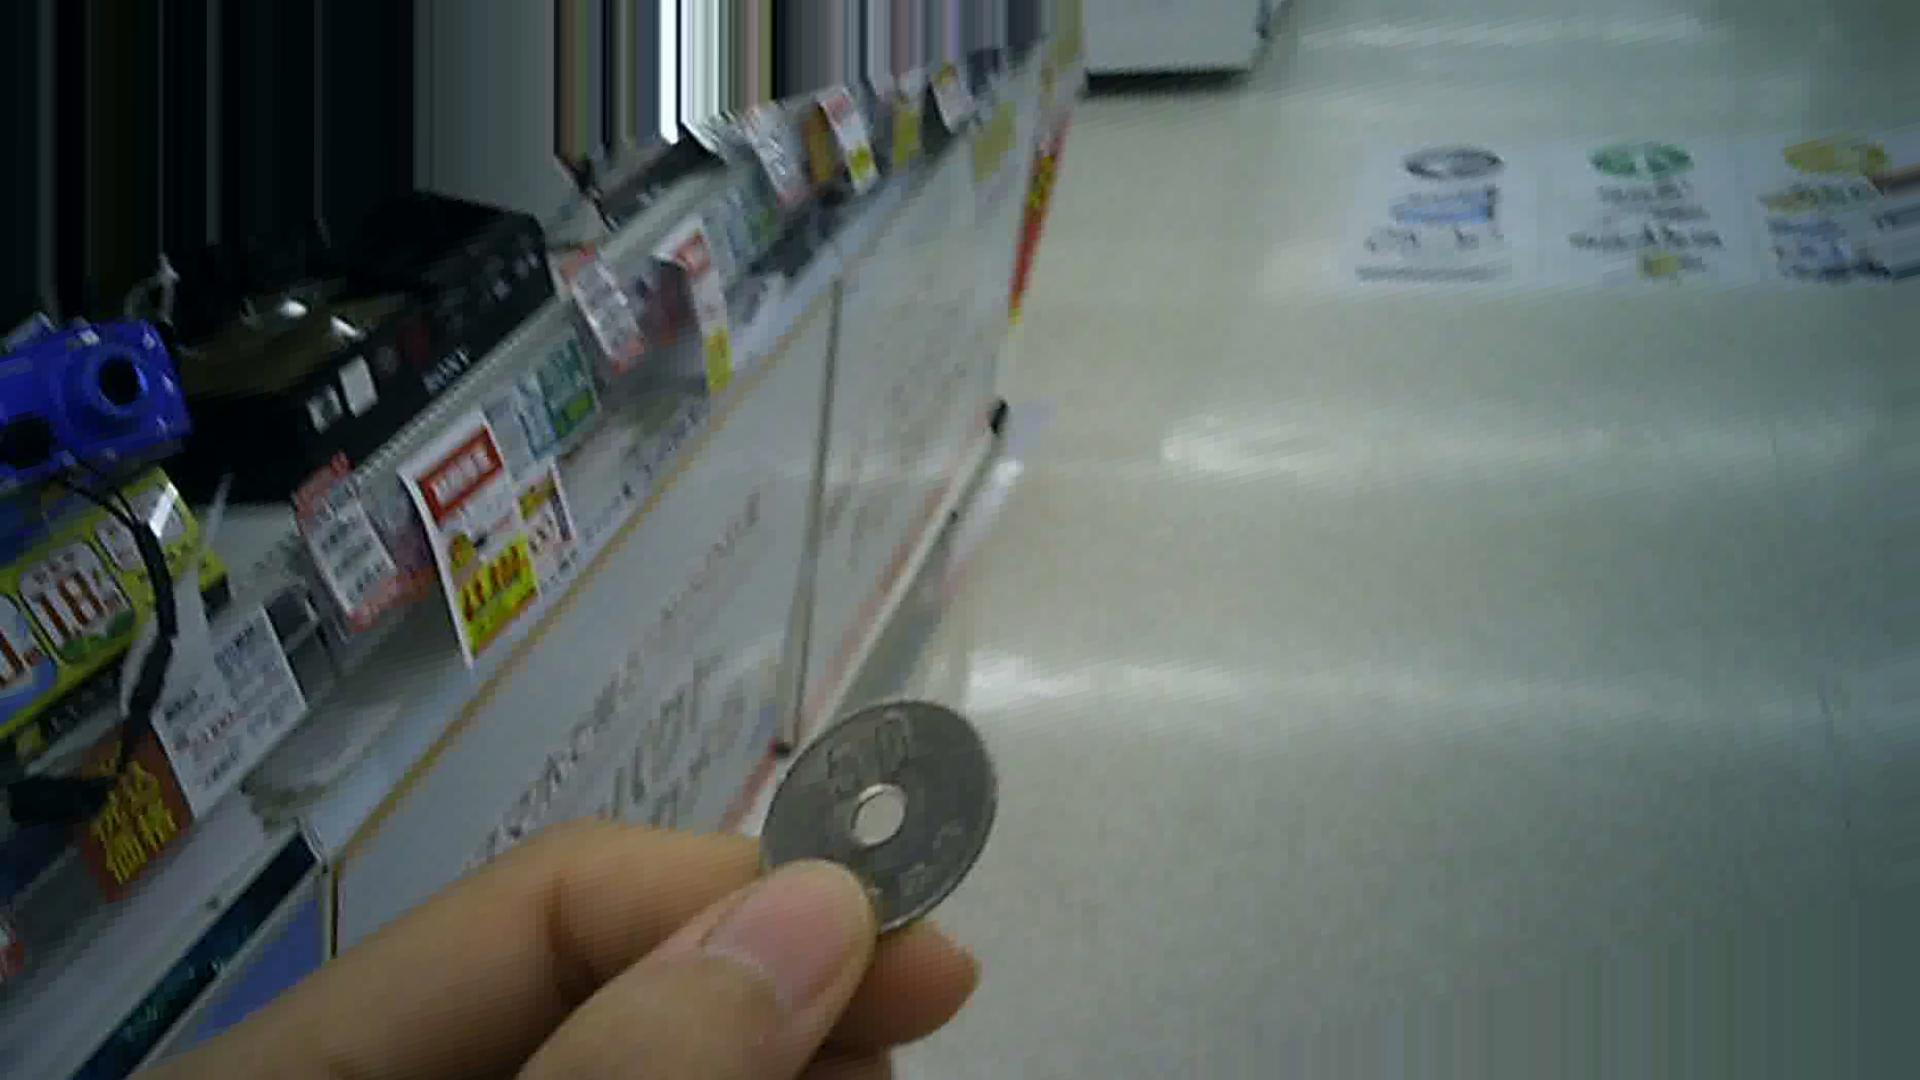50 Yen: (738, 690, 993, 938)
